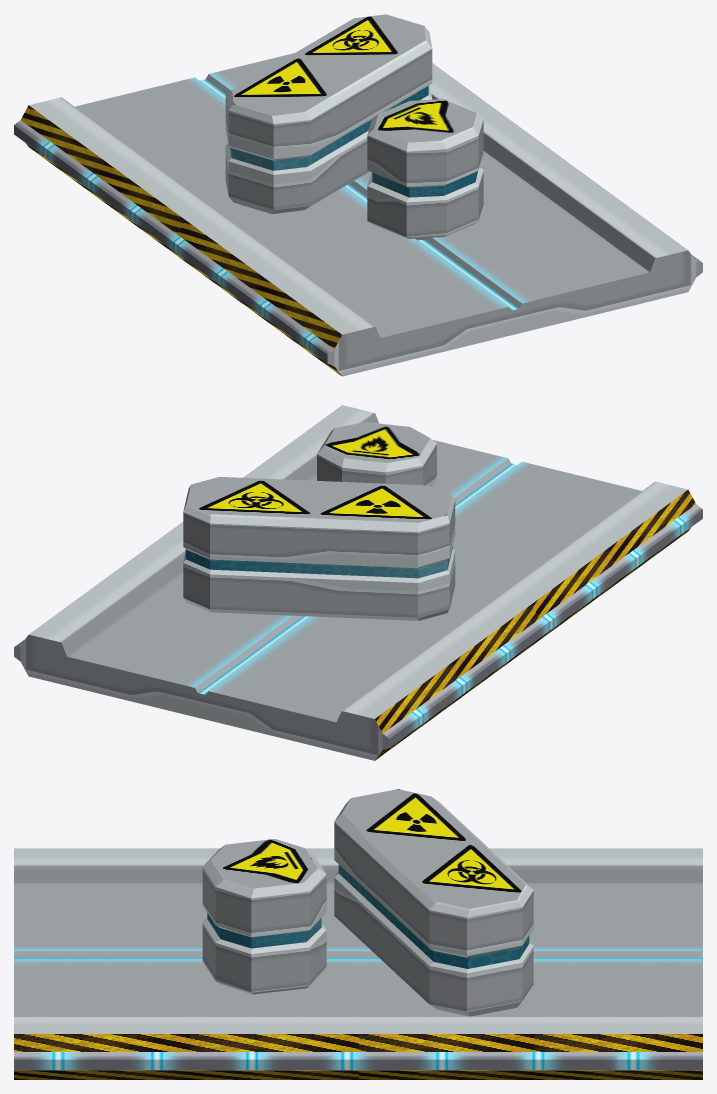
File: Obstacle_2.fbx
3 views of the same model, one above another, from view 1: azimuth 30°, elevation 25°; view 2: azimuth 150°, elevation 25°; view 3: azimuth 270°, elevation 25° (orthographic). The views are drawn at different scales.
Parts seen in each view (by area): view 1: Obstacle_2; view 2: Obstacle_2; view 3: Obstacle_2.
Part boxes in pixels (<box>): Obstacle_2: <box>14,14,702,376</box>; Obstacle_2: <box>14,405,702,760</box>; Obstacle_2: <box>14,789,702,1079</box>.
Size of the model in its own units: 4.15 by 1.35 by 6.
Materials: 3 (3 with a texture image).
